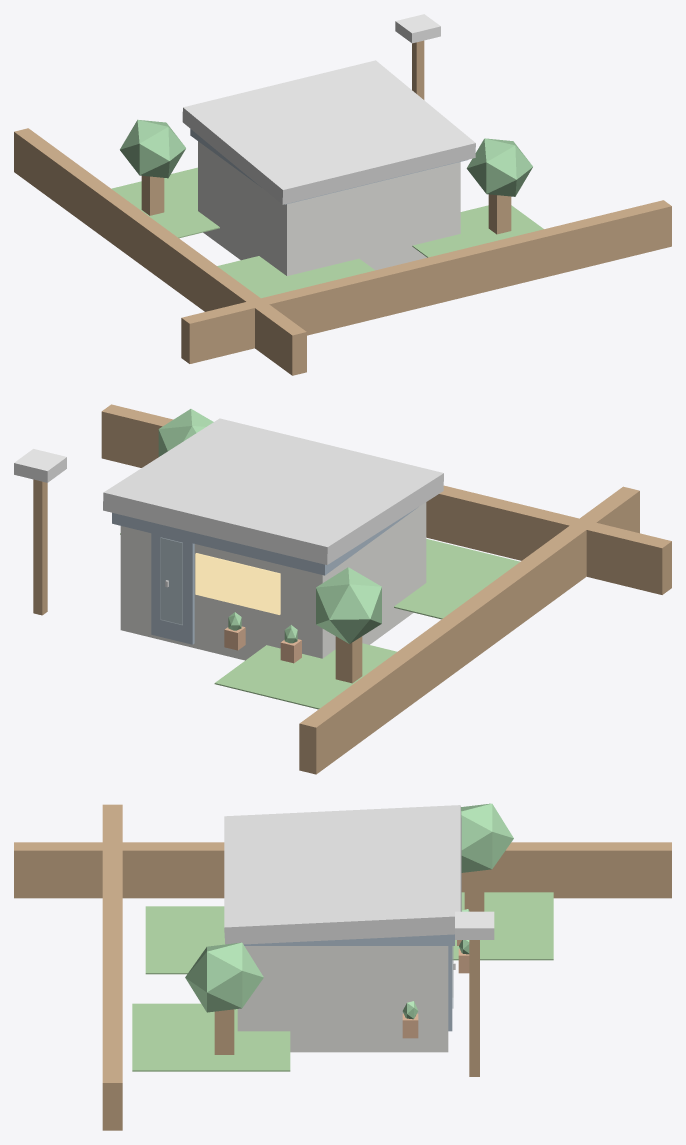
File: carzmoto.glb
The picture shows the model from 3 angles, top to bottom: view 1: azimuth 30°, elevation 25°; view 2: azimuth 150°, elevation 25°; view 3: azimuth 270°, elevation 25°; orthographic projection. The views are drawn at different scales.
Visible parts, largest first — view 1: Roof, FenceB, House, FenceA, GrassPatch.002, GrassPatch, Icosphere.002, Icosphere.003, GrassPatch.001, LampHead, Trunk.001, Trunk (+1 smaller); view 2: Roof, FenceA, House, FenceB, GrassPatch, GrassPatch.002, DoorFrame, Icosphere.002, Trim, Window, LampPole, DoorGlass (+4 smaller); view 3: Roof, FenceA, House, GrassPatch.001, FenceB, GrassPatch, GrassPatch.002, Icosphere.003, Icosphere.002, LampPole, Trim, LampHead (+2 smaller).
Part boxes in pixels (<box>): Roof: <box>182,60,475,204</box>; FenceB: <box>181,200,671,363</box>; House: <box>198,141,460,275</box>; FenceA: <box>14,128,306,375</box>; GrassPatch.002: <box>217,256,374,298</box>; GrassPatch: <box>111,167,219,238</box>; Icosphere.002: <box>120,119,185,178</box>; Icosphere.003: <box>466,138,532,196</box>; GrassPatch.001: <box>412,205,543,257</box>; LampHead: <box>395,14,440,43</box>; Trunk.001: <box>488,194,511,234</box>; Trunk: <box>141,175,164,215</box>; Roof: <box>103,418,443,564</box>; FenceA: <box>299,486,639,774</box>; House: <box>120,502,426,660</box>; FenceB: <box>101,404,671,594</box>; GrassPatch: <box>214,643,396,709</box>; GrassPatch.002: <box>394,539,519,619</box>; DoorFrame: <box>151,533,194,644</box>; Icosphere.002: <box>316,567,381,643</box>; Trim: <box>112,507,417,575</box>; Window: <box>229,561,280,614</box>; LampPole: <box>33,479,47,615</box>; DoorGlass: <box>160,537,182,624</box>; Roof: <box>224,805,461,944</box>; FenceA: <box>14,842,671,898</box>; House: <box>237,946,448,1052</box>; GrassPatch.001: <box>132,1003,290,1071</box>; FenceB: <box>102,804,122,1130</box>; GrassPatch: <box>452,892,553,960</box>; GrassPatch.002: <box>145,906,225,974</box>; Icosphere.003: <box>185,942,263,1012</box>; Icosphere.002: <box>461,803,513,872</box>; LampPole: <box>469,940,479,1076</box>; Trim: <box>244,934,454,945</box>; LampHead: <box>455,911,494,939</box>.
Bounding box in the file's own units: 10 × 2.78 × 10.
